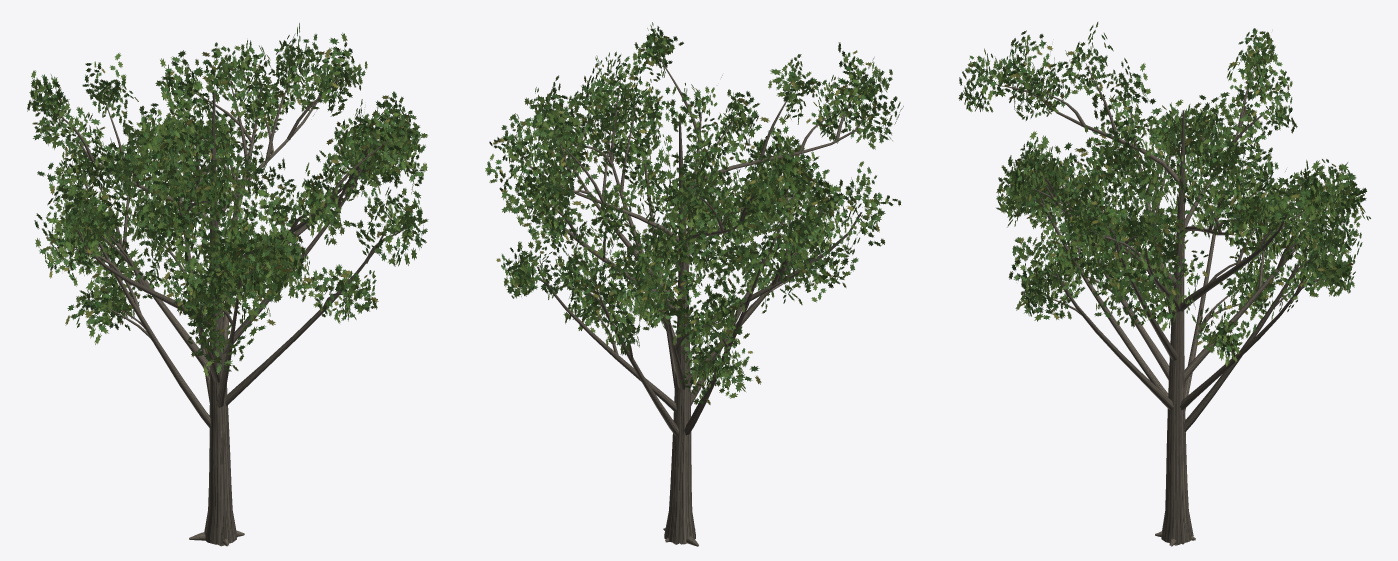
The model's file is red_maple_LOD1.glb.
3 renders of one model, left to right at view 1: azimuth 30°, elevation 25°; view 2: azimuth 150°, elevation 25°; view 3: azimuth 270°, elevation 25°, orthographic. The views are drawn at different scales.
Parts seen in each view (by area): view 1: red_maple_foliage, red_maple_wood; view 2: red_maple_foliage, red_maple_wood; view 3: red_maple_foliage, red_maple_wood.
Part boxes in pixels (x1,y1,x2,y2): red_maple_foliage: [27, 23, 428, 377]; red_maple_wood: [58, 70, 404, 546]; red_maple_foliage: [485, 22, 903, 404]; red_maple_wood: [520, 54, 868, 546]; red_maple_foliage: [958, 22, 1370, 366]; red_maple_wood: [988, 62, 1336, 546].
Bounding box in the file's own units: 12.32 × 15.62 × 12.65.
Materials: 2 (2 with a texture image).
